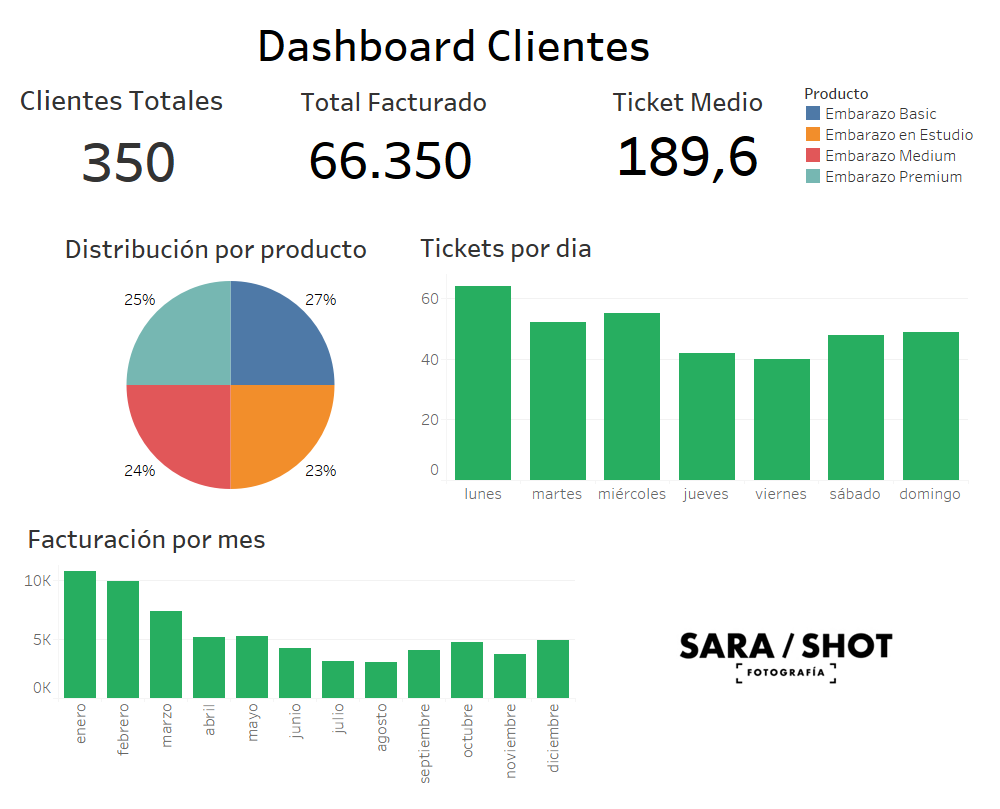

The dashboard page shown, as its layout file describes it:
{"tool":"tableau","page":{"name":"Dashboard 1","canvas":[1000,800],"ordinal":0},"visuals":[{"type":"title","box":[8,8,984,102]},{"type":"text","box":[357,99,206,30]},{"type":"worksheet","title":"Total Clientes","mark":"Automatic","box":[8,110,347,131.9]},{"type":"worksheet","title":"Total Facturado","mark":"Automatic","box":[355,110,271,341]},{"type":"worksheet","title":"Ticket promedio","mark":"Automatic","box":[626,110,206,341]},{"type":"legend","title":"Tickets por categoria","param":"[federated.1cie14p08kdeu61d3r8390nfpvi7].[none:producto:nk]","box":[832,110,160,114]},{"type":"text","box":[171,192,133,45]},{"type":"worksheet","title":"Tickets por categoria","mark":"Pie","box":[8,241.9,347,209.1]},{"type":"worksheet","title":"Tickets a la semana","mark":"Bar","rows":["id_ticket"],"cols":["fecha_reserva"],"box":[8,451,492,341]},{"type":"worksheet","title":"Tickets al mes","mark":"Bar","rows":["precio"],"cols":["fecha_reserva"],"box":[500,451,492,341]}]}

Visuals, with their boxes in screenshot pixels (x1, y1, x2, y2), scaled from the page's 1000x800 canvas onto the 1000x809 screenshot:
title: [8, 8, 992, 111]
text: [357, 100, 563, 130]
"Total Clientes" worksheet: [8, 111, 355, 245]
"Total Facturado" worksheet: [355, 111, 626, 456]
"Ticket promedio" worksheet: [626, 111, 832, 456]
"Tickets por categoria" legend: [832, 111, 992, 227]
text: [171, 194, 304, 240]
"Tickets por categoria" worksheet (Pie marks): [8, 245, 355, 456]
"Tickets a la semana" worksheet (Bar marks): [8, 456, 500, 801]
"Tickets al mes" worksheet (Bar marks): [500, 456, 992, 801]
